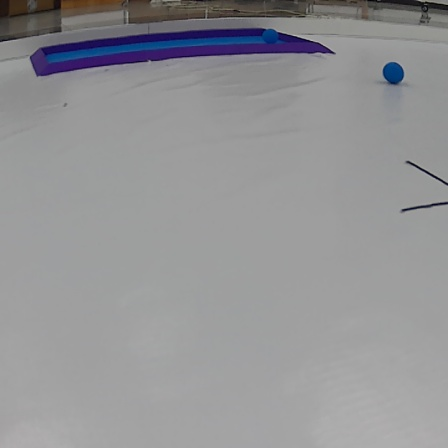blue: (383, 58, 407, 84), (260, 27, 281, 44)
blue_aim: (28, 31, 335, 63)
